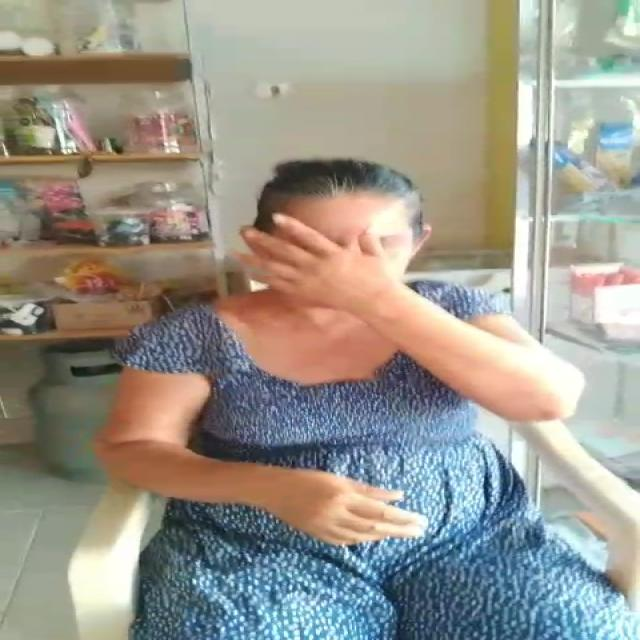7_mano_rostro: (234, 214, 414, 328)
